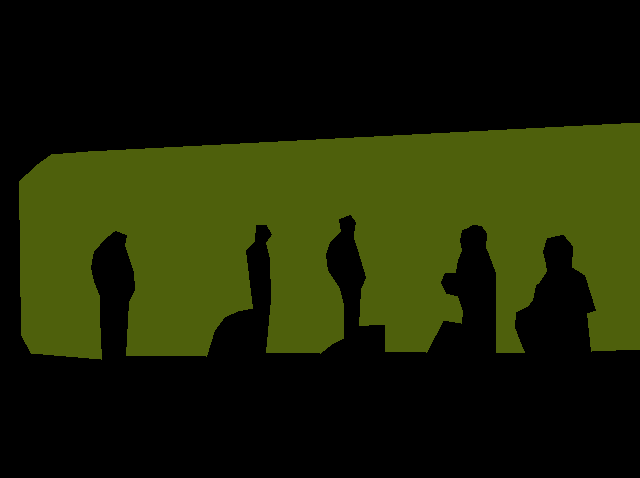Train: (19, 122, 640, 360)
